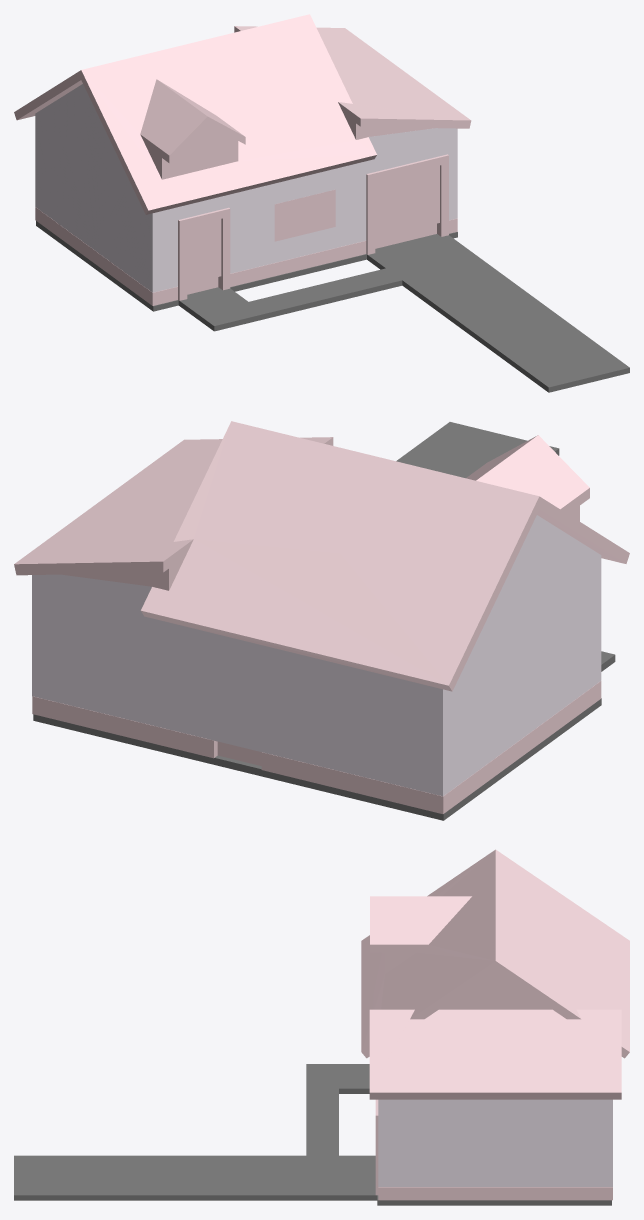
File: pink_house.gltf
3 renders of one model, top to bottom at view 1: azimuth 30°, elevation 25°; view 2: azimuth 150°, elevation 25°; view 3: azimuth 270°, elevation 25°, orthographic. The views are drawn at different scales.
Size of the model in its own units: 1.29 by 0.7574 by 2.1.
